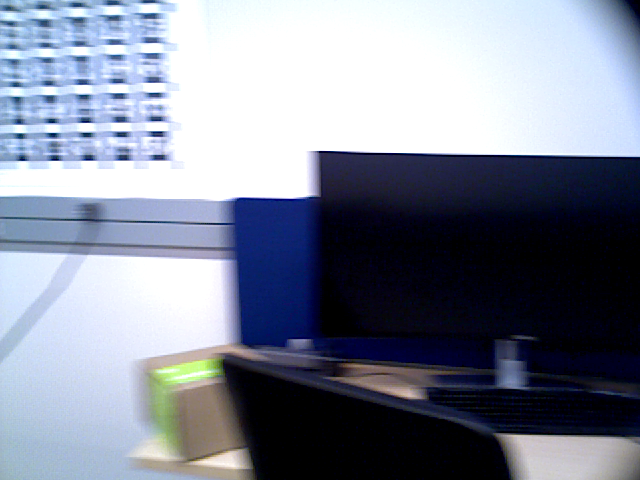painting4: (1, 1, 186, 198)
